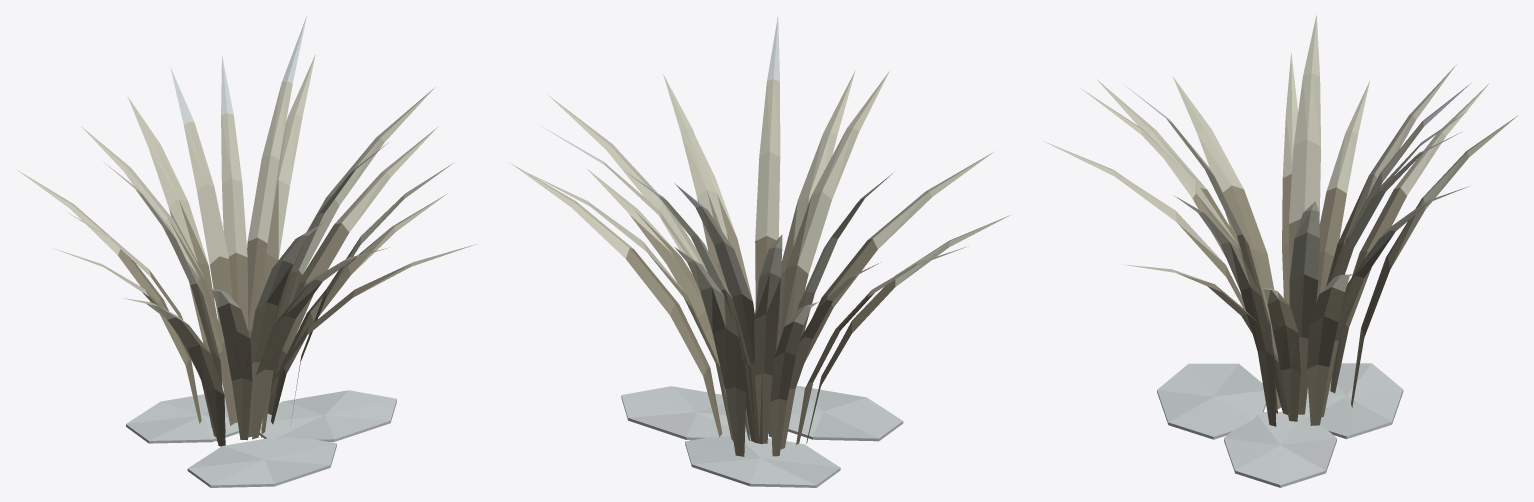
The model's file is grass_tuft_c_winter.glb.
The picture shows the model from 3 angles, left to right: view 1: azimuth 30°, elevation 25°; view 2: azimuth 150°, elevation 25°; view 3: azimuth 270°, elevation 25°; orthographic projection. The views are drawn at different scales.
Parts seen in each view (by area): view 1: geometry; view 2: geometry; view 3: geometry.
Boxes of the visible parts, left/top/right/bottom form: geometry: left=16, top=16, right=476, bottom=487; geometry: left=509, top=15, right=1009, bottom=487; geometry: left=1043, top=15, right=1518, bottom=487.
Bounding box in the file's own units: 0.5075 × 0.39 × 0.463.
